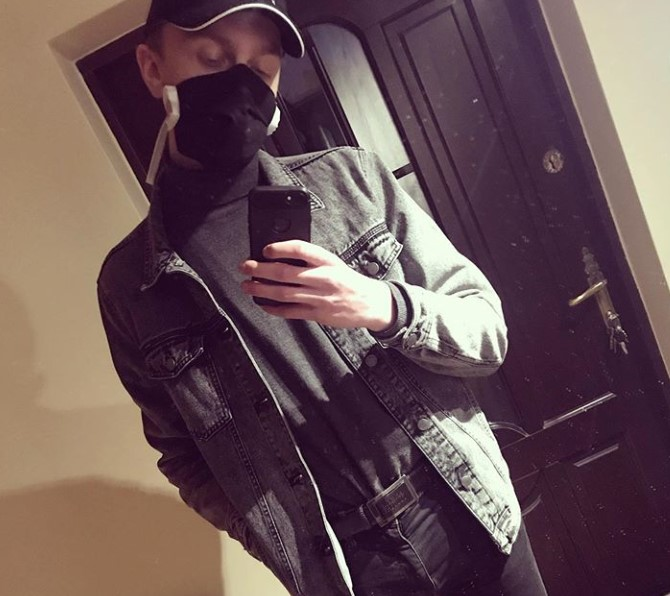face_with_mask: (134, 5, 305, 181)
